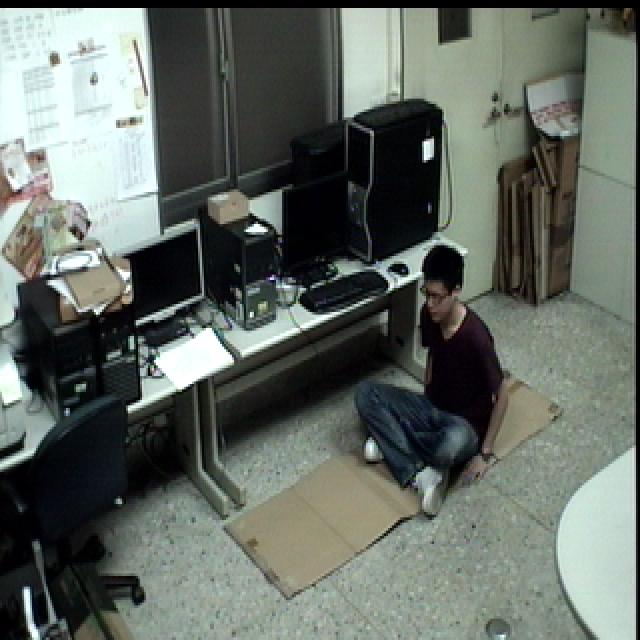sit: (348, 242, 515, 519)
